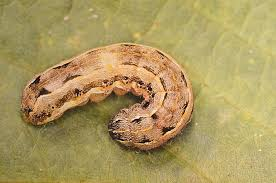Armyworm: (20, 32, 199, 158)
